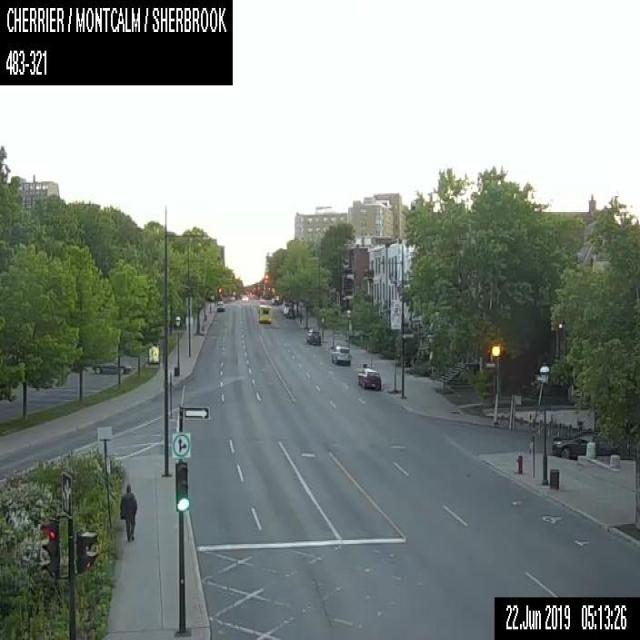pedestrian: (118, 480, 136, 541)
vehicle: (551, 429, 626, 460), (357, 367, 381, 389), (93, 360, 130, 374), (330, 344, 350, 364), (306, 327, 320, 343), (258, 305, 271, 322), (217, 300, 224, 310), (241, 294, 247, 302)
